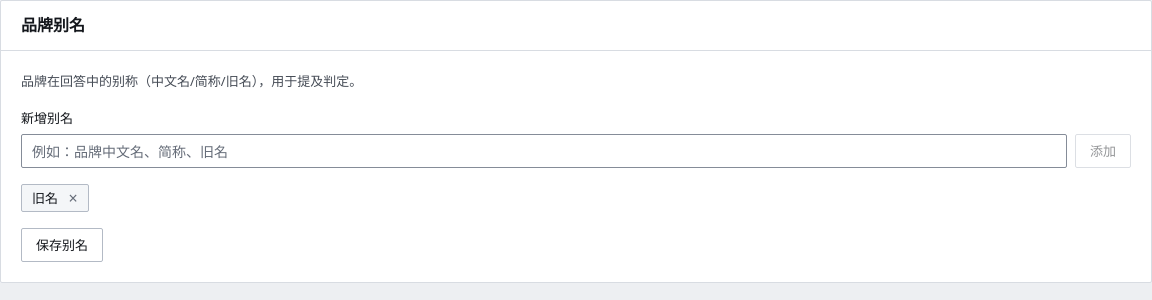
BrandAliasesCard › 保存失败：展示失败提示
Click the button "保存别名": x=62, y=245 [21, 228, 103, 262]
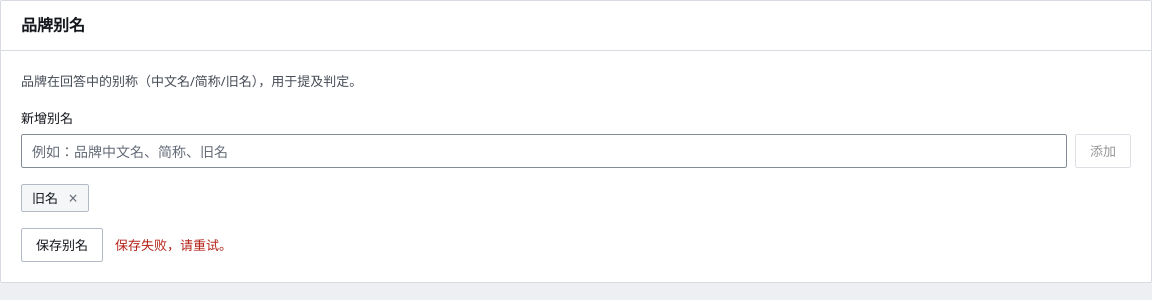
Check: the text "保存失败，请重试。" is shown, box [115, 235, 232, 256]
